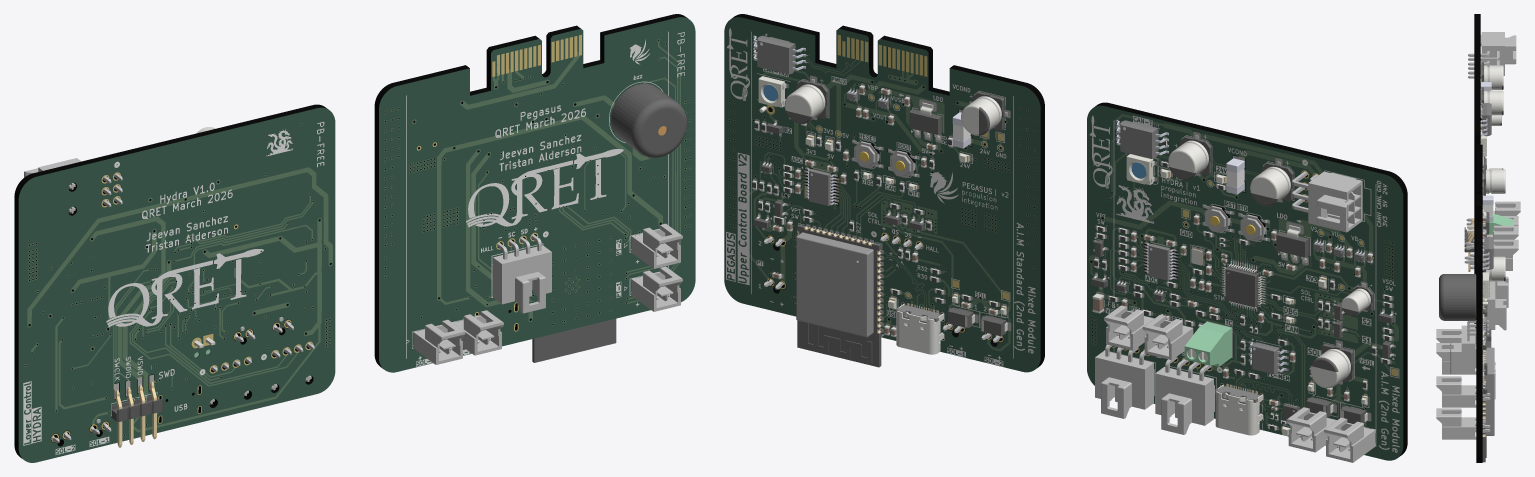
The model's file is modules-optimized.glb.
3 renders of one model, left to right at view 1: azimuth 30°, elevation 25°; view 2: azimuth 150°, elevation 25°; view 3: azimuth 270°, elevation 25°, orthographic. The views are drawn at different scales.
Visible parts, largest first — view 1: SHAPE_3611_IndexedFaceSet, SHAPE_4_IndexedFaceSet; view 2: SHAPE_3611_IndexedFaceSet, SHAPE_4_IndexedFaceSet; view 3: SHAPE_3611_IndexedFaceSet, SHAPE_4_IndexedFaceSet.
Part boxes in pixels (bbox=[...]): SHAPE_3611_IndexedFaceSet: bbox=[374, 14, 695, 372]; SHAPE_4_IndexedFaceSet: bbox=[14, 104, 335, 462]; SHAPE_3611_IndexedFaceSet: bbox=[724, 14, 1044, 372]; SHAPE_4_IndexedFaceSet: bbox=[1087, 102, 1407, 462]; SHAPE_3611_IndexedFaceSet: bbox=[1436, 144, 1505, 462]; SHAPE_4_IndexedFaceSet: bbox=[1464, 14, 1520, 330].
Bounding box in the file's own units: 0.1488 × 0.0686 × 0.0215.
